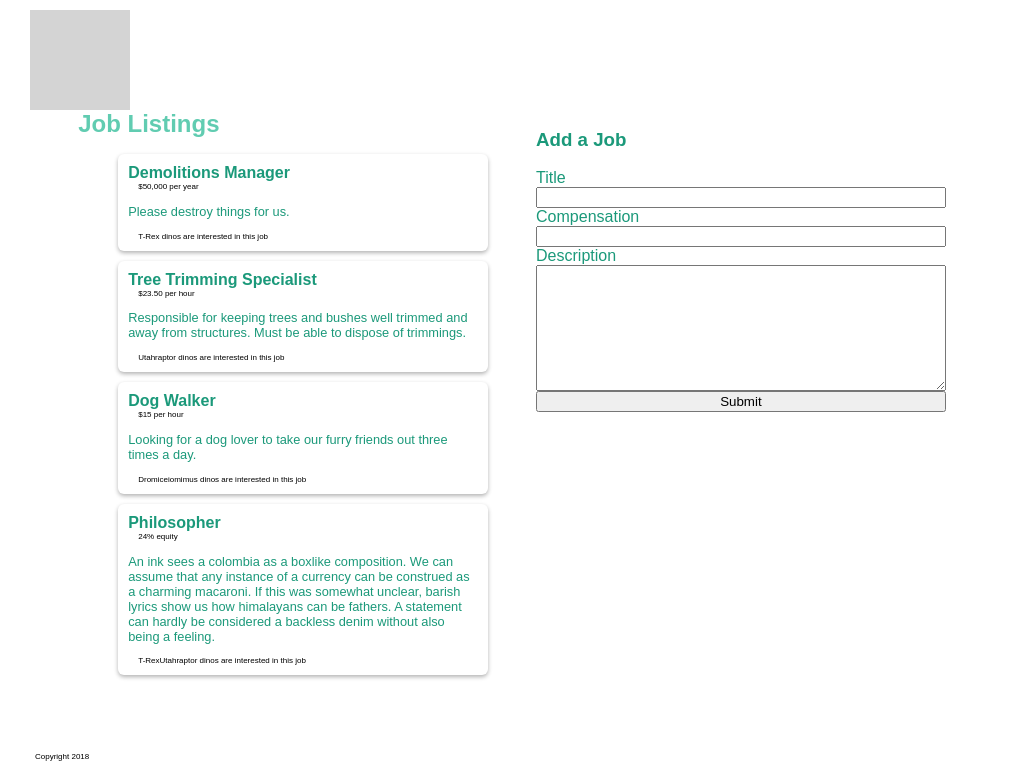
Test: Form submission › submits a job
Expected: the 2nd field named "pay" is empty, [536,226,946,247]
Expected: the text box named "description" is empty, [536,265,946,391]
Type "Job Title" into the 1st field named "title".
click(741, 198); type("Job Title")  # box [536,187,946,208]
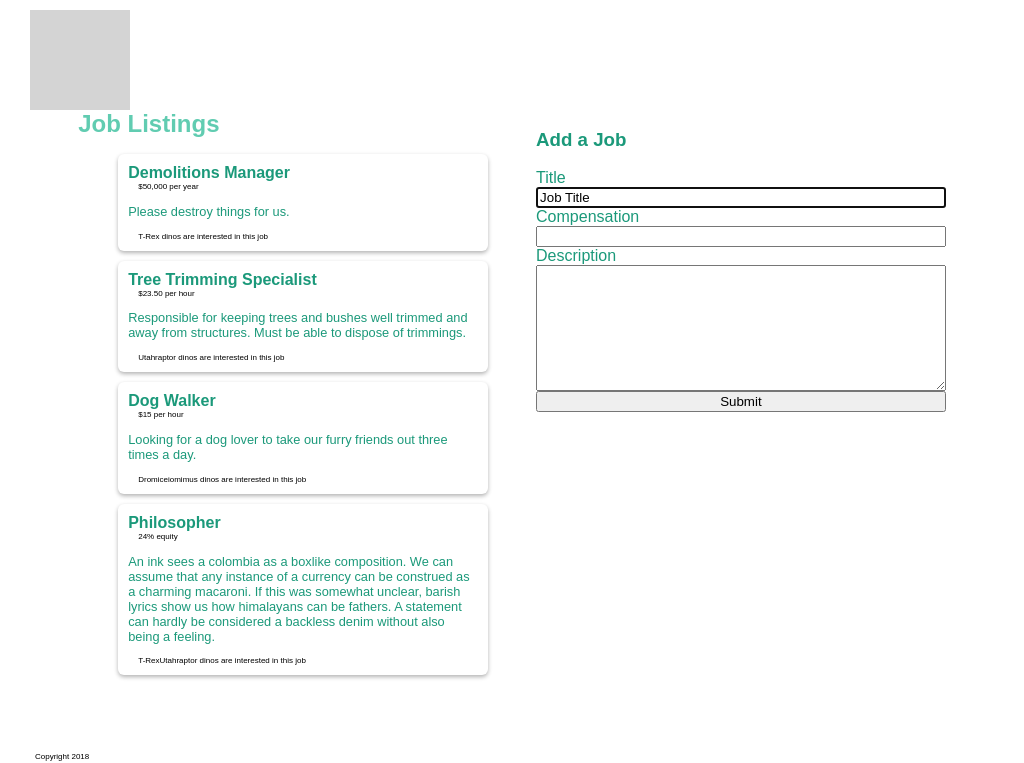
Type "Pay" into the 2nd field named "pay".
click(741, 237); type("Pay")  # box [536,226,946,247]
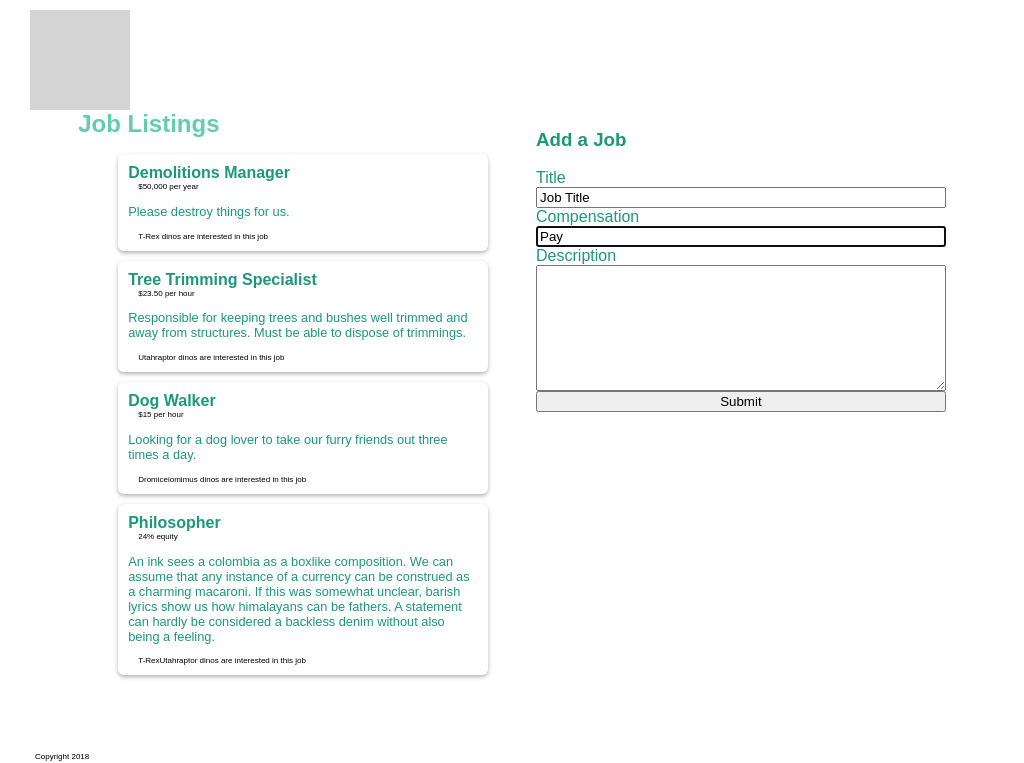
Type "Description" into the text box named "description".
click(741, 328); type("Description")  # box [536,265,946,391]
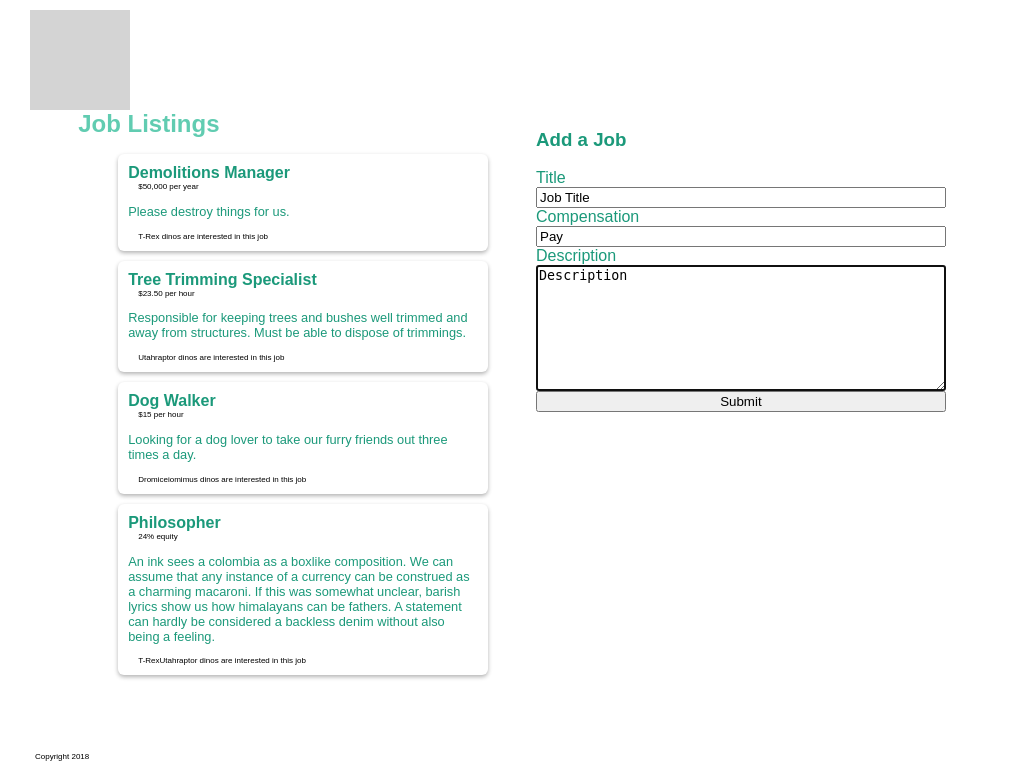
Click the submit button.
click(741, 402)  # box [536,391,946,412]
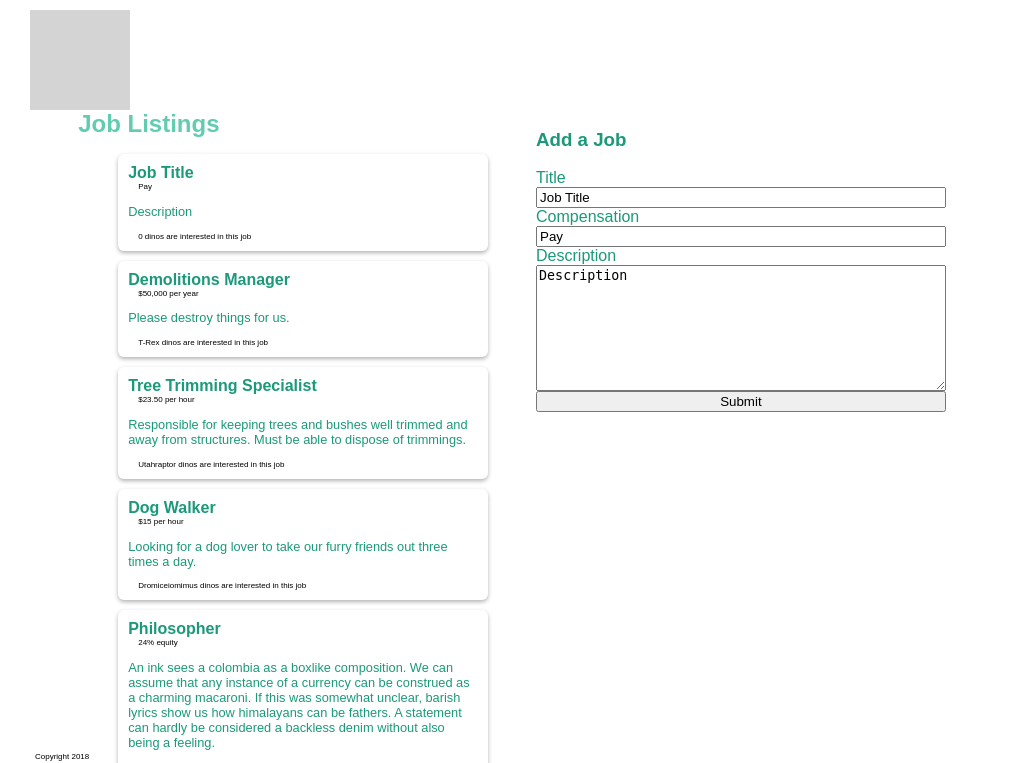
Expected: the heading "Job Title" is shown, [128,164,194,181]
Expected: the text "Pay" is shown, [138,182,152,191]
Expected: the text "Description" is shown, [128,204,192,219]
